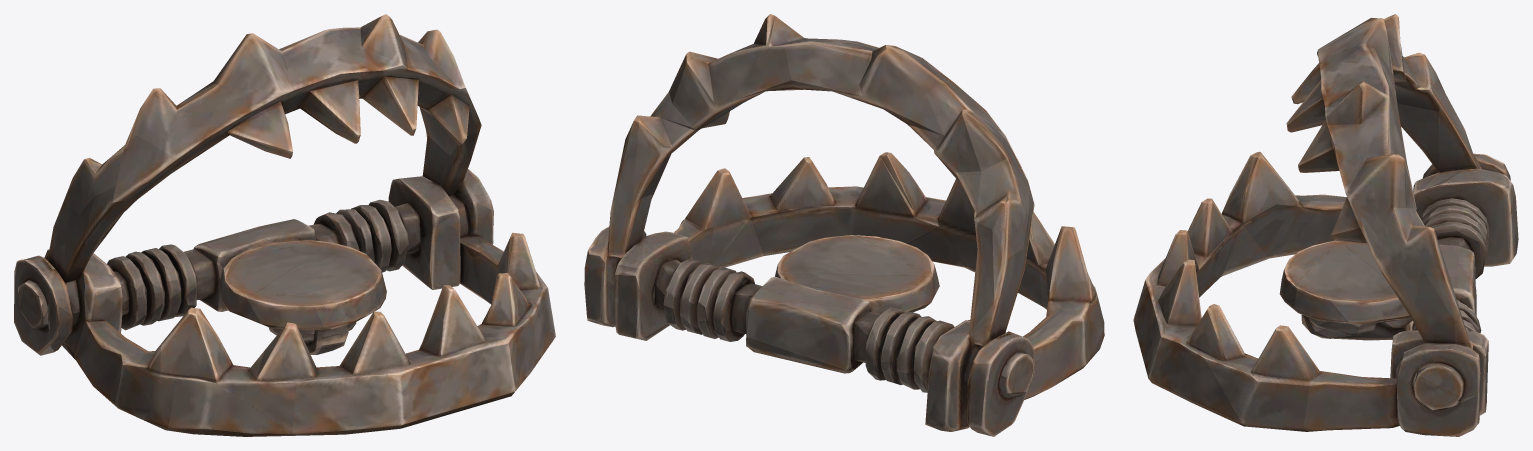
Rendered from bear-trap.glb.
3 views of the same model, side by side, from view 1: azimuth 30°, elevation 25°; view 2: azimuth 150°, elevation 25°; view 3: azimuth 270°, elevation 25° (orthographic). The views are drawn at different scales.
Visible parts, largest first — view 1: output_unwrapped; view 2: output_unwrapped; view 3: output_unwrapped.
Part boxes in pixels (x1=…): output_unwrapped: x1=14, y1=14, x2=555, y2=436; output_unwrapped: x1=584, y1=14, x2=1104, y2=436; output_unwrapped: x1=1133, y1=14, x2=1518, y2=436.
Bounding box in the file's own units: 1.9 × 1.28 × 1.49.
Materials: 1 (1 with a texture image).
